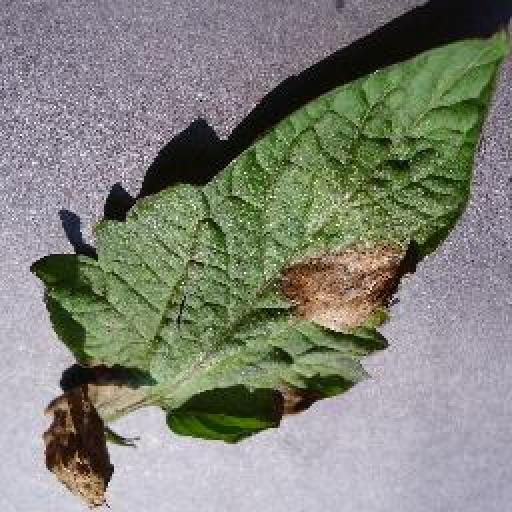disease_tomato: (28, 26, 512, 512)
